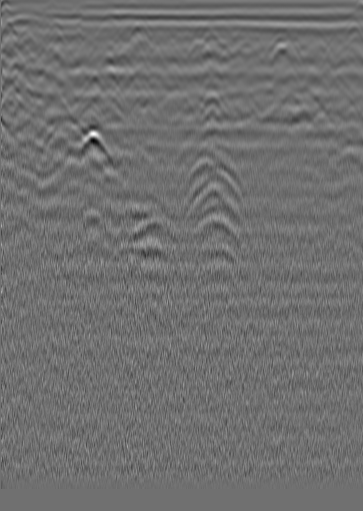가스: (67, 132, 112, 163)
상수: (303, 36, 337, 61)
오수: (16, 32, 36, 52)
우수: (200, 30, 220, 50)
